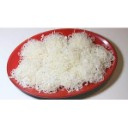idiyappam: (21, 40, 105, 89)
